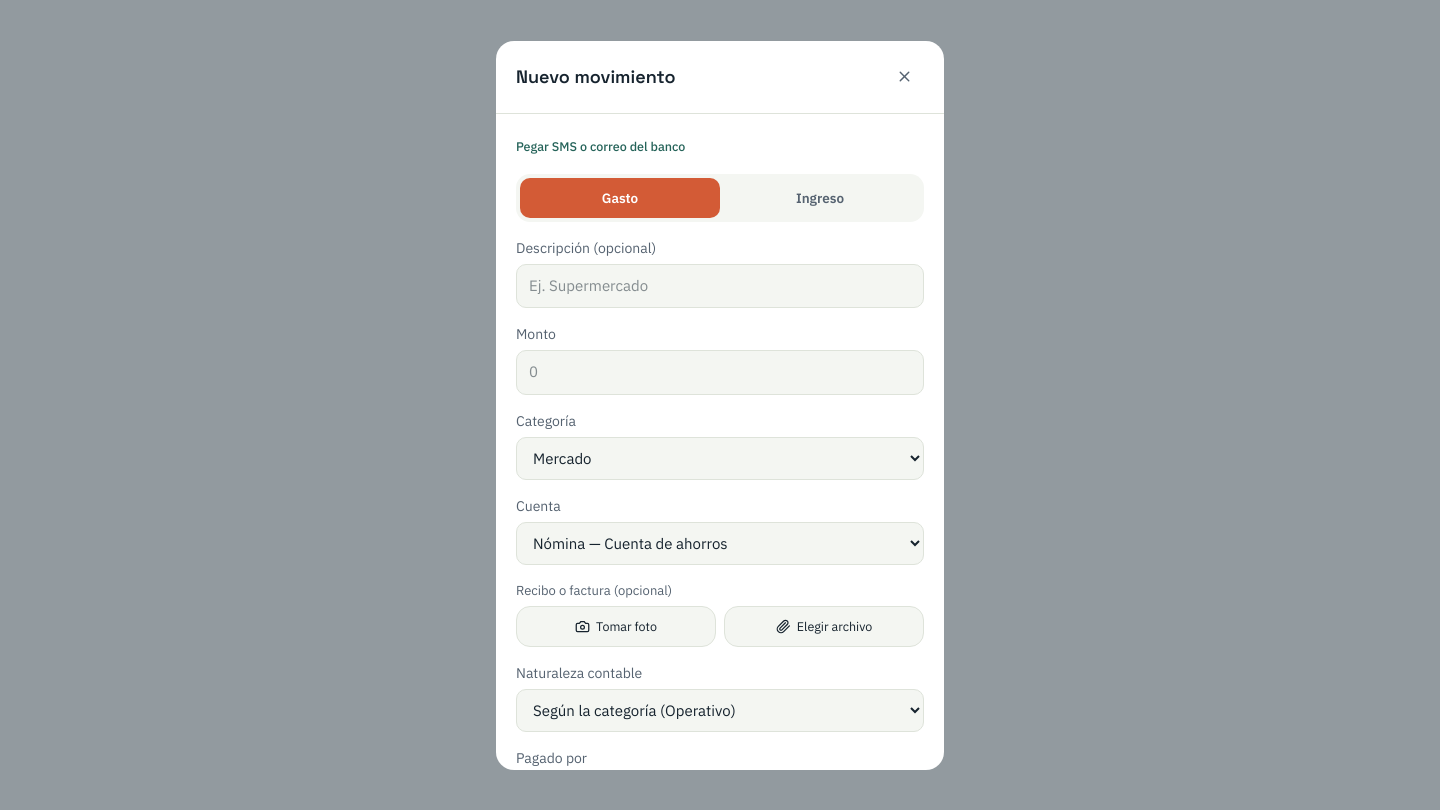
Test: Pegar SMS del banco en el formulario › un ingreso cambia el formulario a Ingreso
Click the button "Pegar SMS o correo del banco".
click(601, 146)  # box [516,134,685,158]
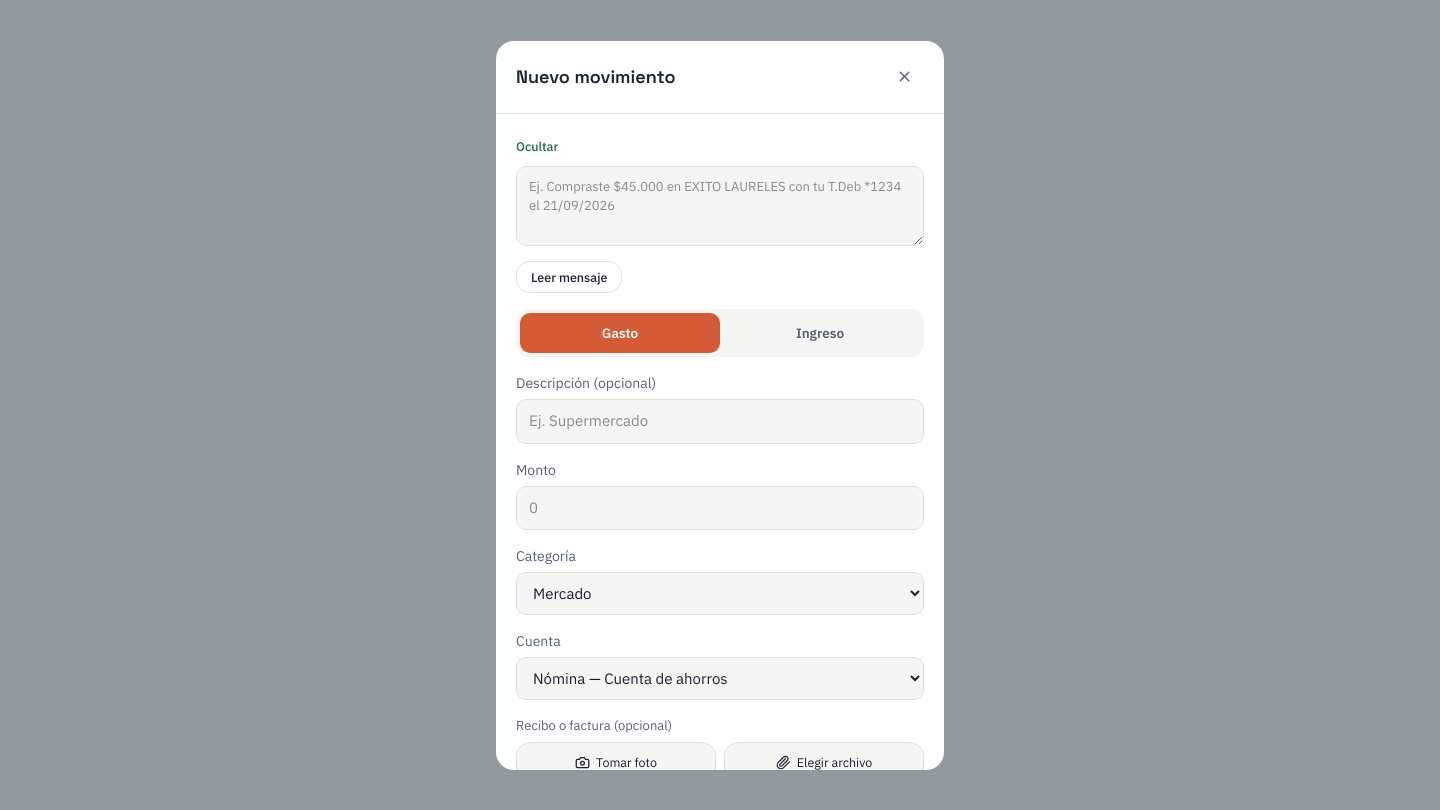
Replace the text in the text box named "Mensaje del banco" with "Nequi: Recibiste $50.000 de JUAN PEREZ. Tu saldo es $80.000." at (720, 206), box [516,166,924,246]
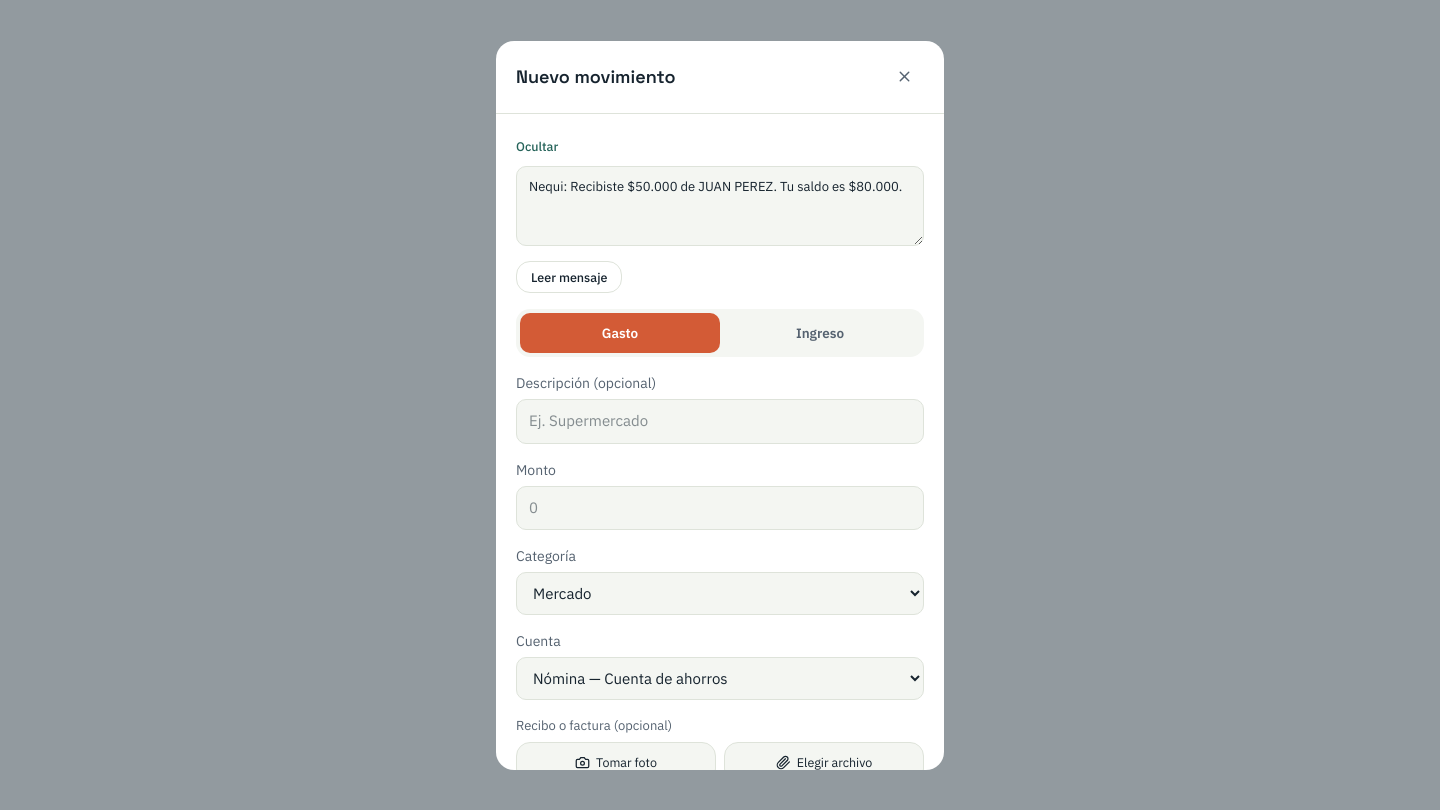
Click the button "Leer mensaje".
click(569, 277)  # box [516,260,622,293]
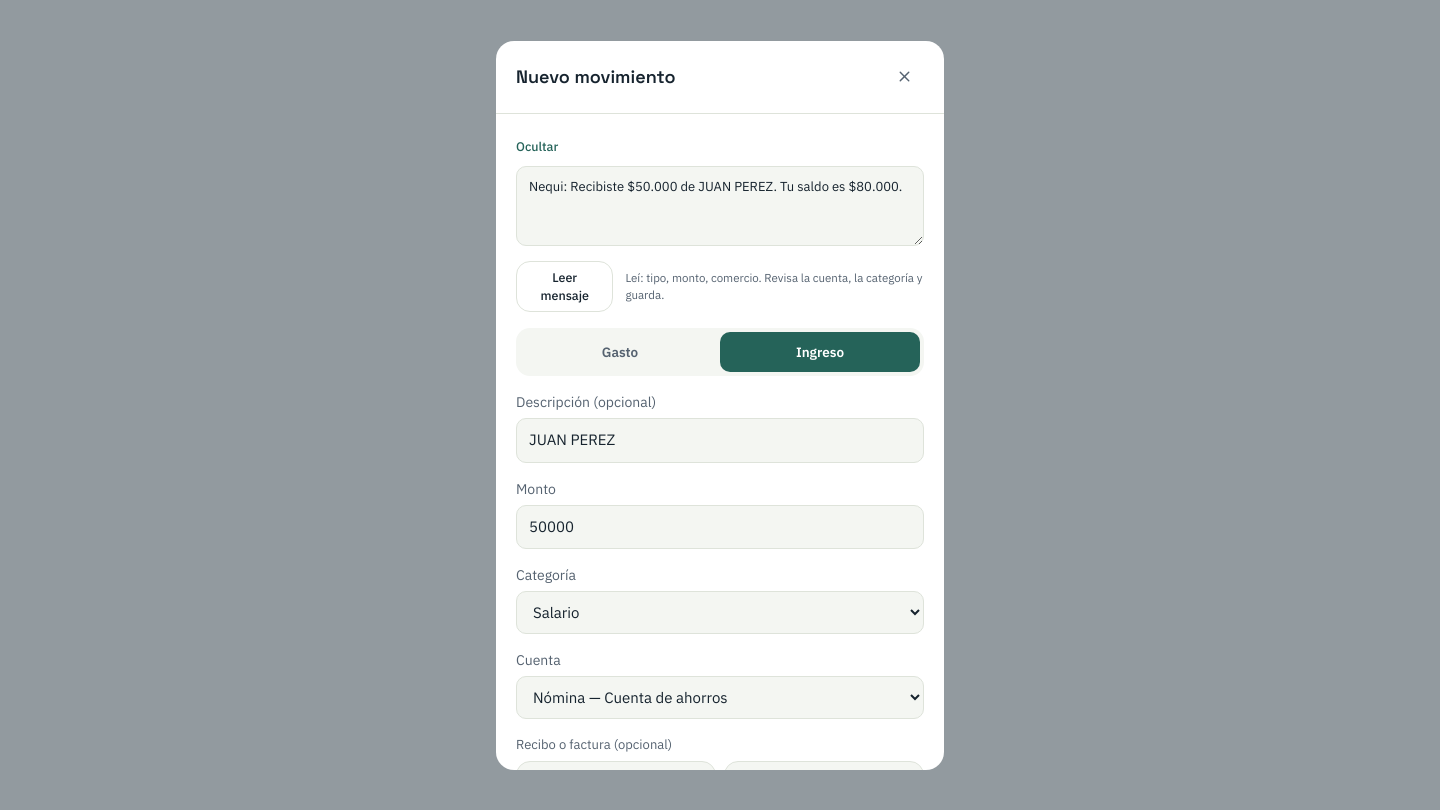
Expected: the number field showing "50000" is shown, [516,504,924,549]
Expected: the dropdown showing "Salario" is shown, [516,591,924,634]
